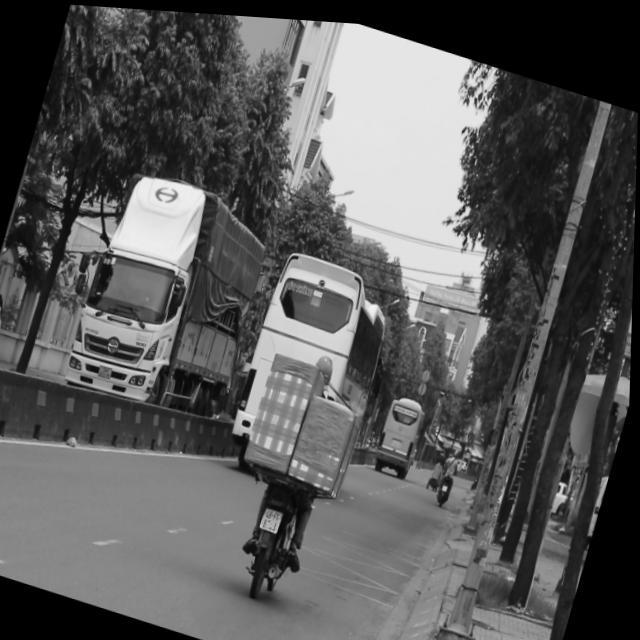helmet: (311, 346, 338, 384)
licenseplate: (207, 326, 381, 615)
nohelmet: (261, 503, 285, 529)
